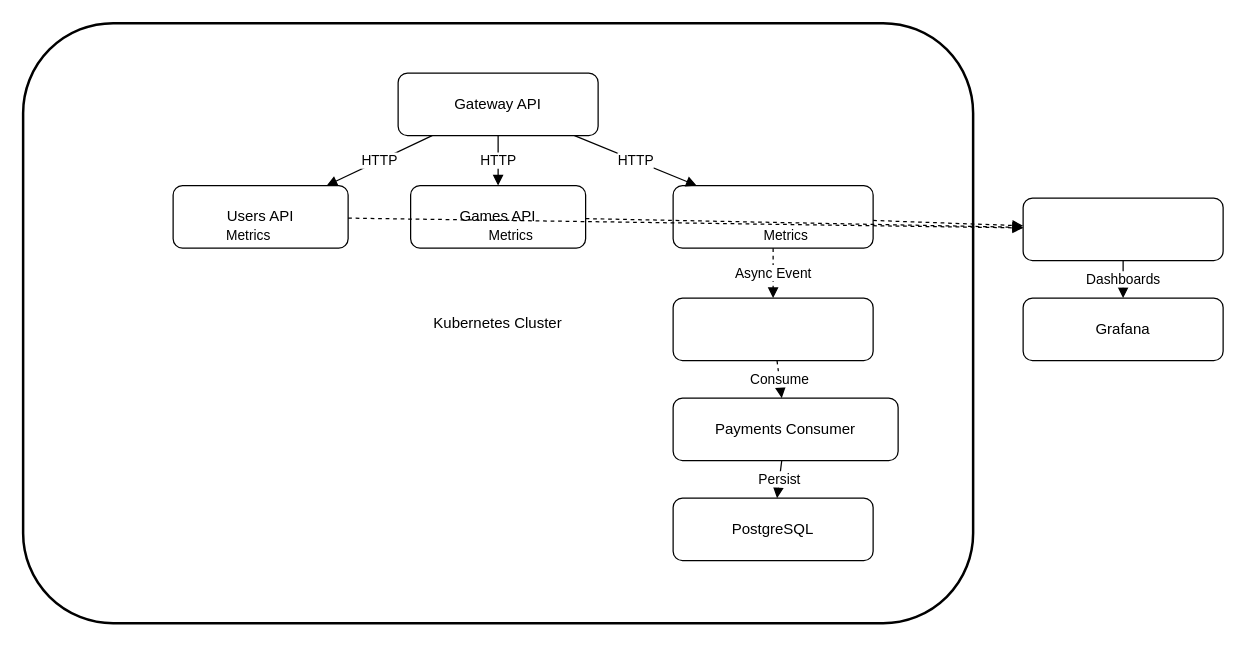
Some shapes in this 1245 by 645 pixel diagram are drawn without their labels. Each missing label, with the box of its shape:
Payments API: (672, 184, 873, 248)
Prometheus: (1022, 197, 1223, 261)
RabbitMQ: (672, 297, 873, 361)
